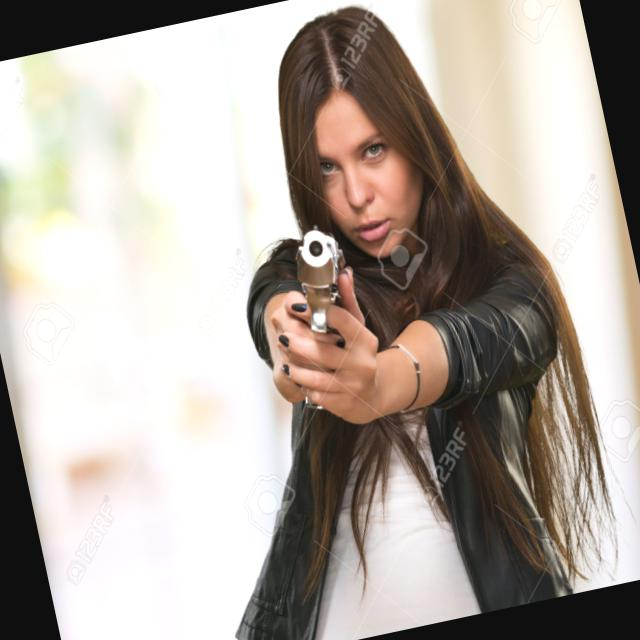handgun: (252, 196, 376, 426)
